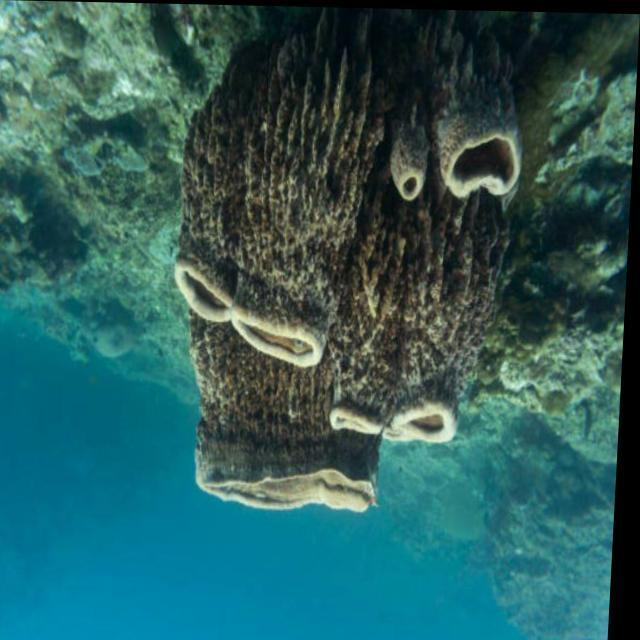Dead Coral: (163, 31, 557, 540)
